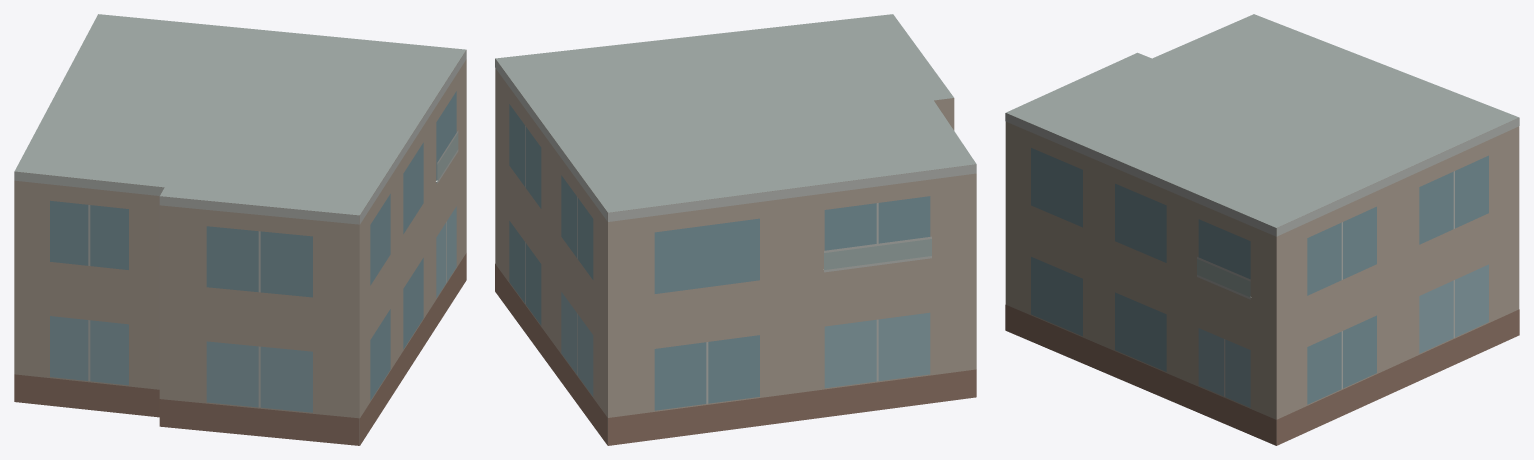
Rendered from survey-upis-32916210.glb.
3 renders of one model, left to right at view 1: azimuth 30°, elevation 25°; view 2: azimuth 150°, elevation 25°; view 3: azimuth 270°, elevation 25°, orthographic. The views are drawn at different scales.
Visible parts, largest first — view 1: survey-upis-32916210.tmp; view 2: survey-upis-32916210.tmp; view 3: survey-upis-32916210.tmp.
Boxes of the visible parts, x1,y1,x2,y2 form: survey-upis-32916210.tmp: (14, 14, 466, 445); survey-upis-32916210.tmp: (495, 14, 976, 445); survey-upis-32916210.tmp: (1005, 14, 1519, 445).
Size of the model in its own units: 12.86 by 6.1 by 13.05.
